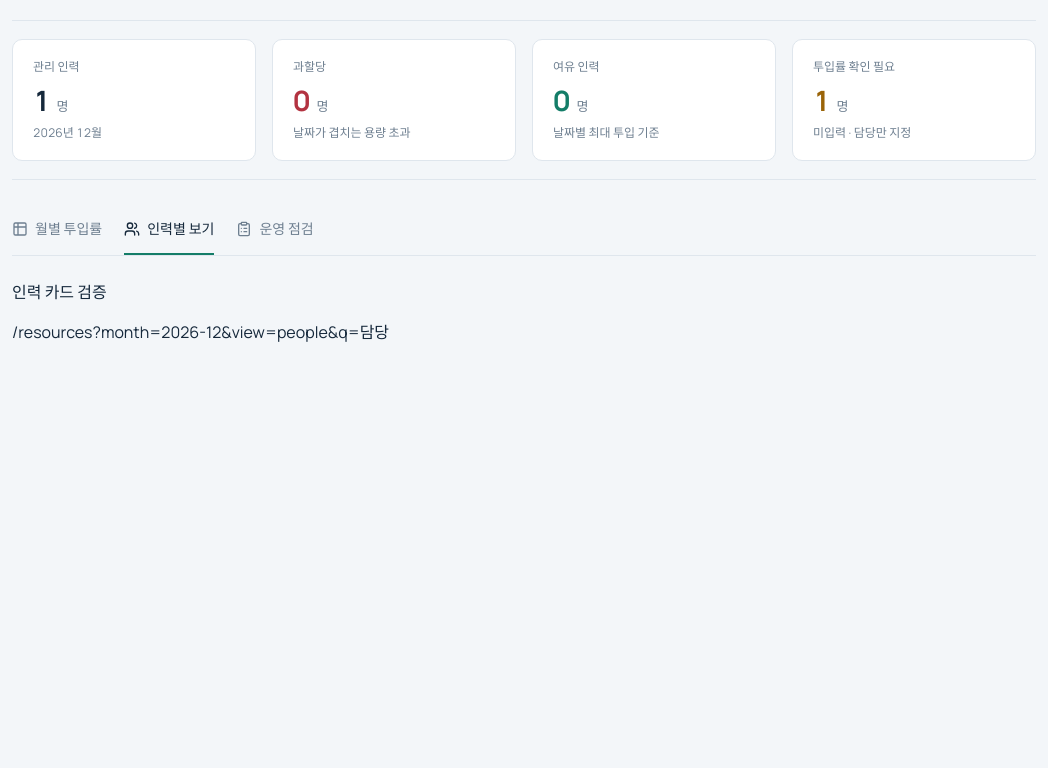
Test: action center and search › restores shared staffing view state and preserves the selected month and search when a KPI is clicked
This screenshot has width=1048, height=768.
Check: the text "인력 카드 검증" is shown, box top-left (12, 281), bottom-right (107, 303)
Click the button with aria-label "과할당 인력 보기".
click(394, 100)  # box top-left (272, 39), bottom-right (516, 161)
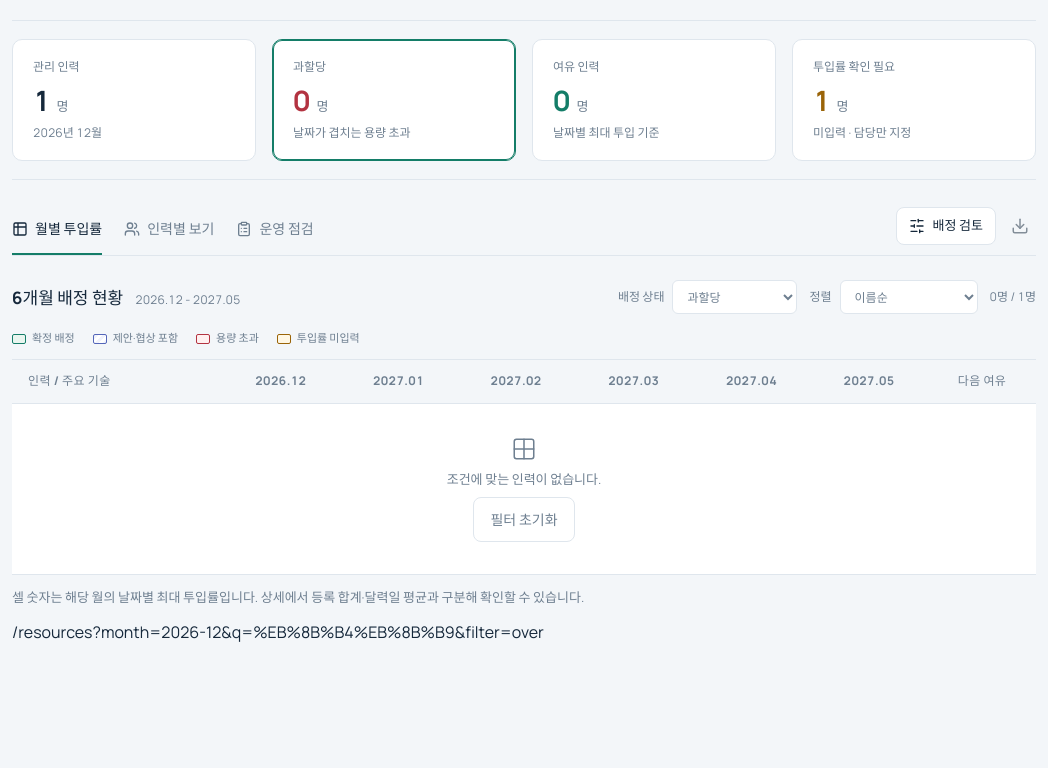
Check: the text named "현재 주소" shows "month=2026-12", box top-left (92, 621), bottom-right (544, 643)
Check: the text named "현재 주소" shows "filter=over", box top-left (92, 621), bottom-right (544, 643)
